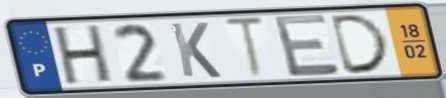2: (110, 21, 171, 84)
D: (328, 12, 394, 77)
E: (270, 11, 344, 80)
H: (51, 22, 114, 87)
K: (167, 21, 225, 80)
T: (220, 15, 269, 81)
